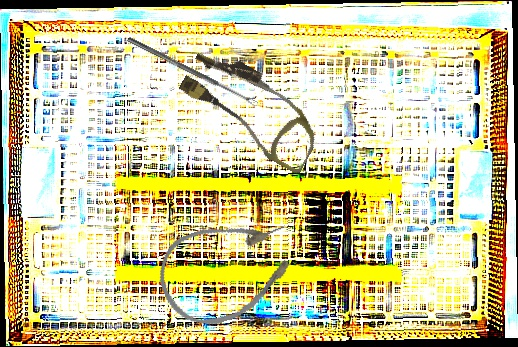Cannula: (170, 41, 333, 176), (148, 202, 309, 338)
Surgical Spoon: (126, 36, 259, 108)
